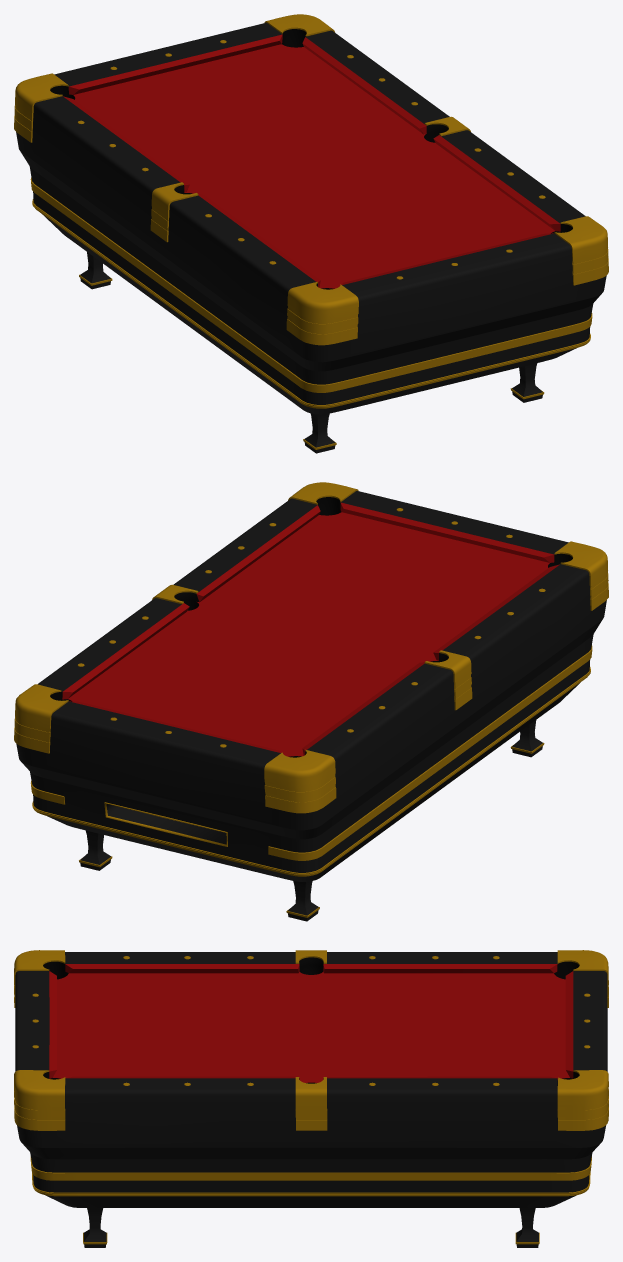
File: PoolTable.fbx
The picture shows the model from 3 angles, top to bottom: view 1: azimuth 30°, elevation 25°; view 2: azimuth 150°, elevation 25°; view 3: azimuth 270°, elevation 25°; orthographic projection. The views are drawn at different scales.
Visible parts, largest first — view 1: Table; view 2: Table; view 3: Table.
Boxes of the visible parts, left/top/right/bottom form: Table: left=14, top=14, right=608, bottom=453; Table: left=14, top=482, right=608, bottom=921; Table: left=14, top=950, right=608, bottom=1247.
Size of the model in its own units: 1.7 by 2.98 by 0.965.
